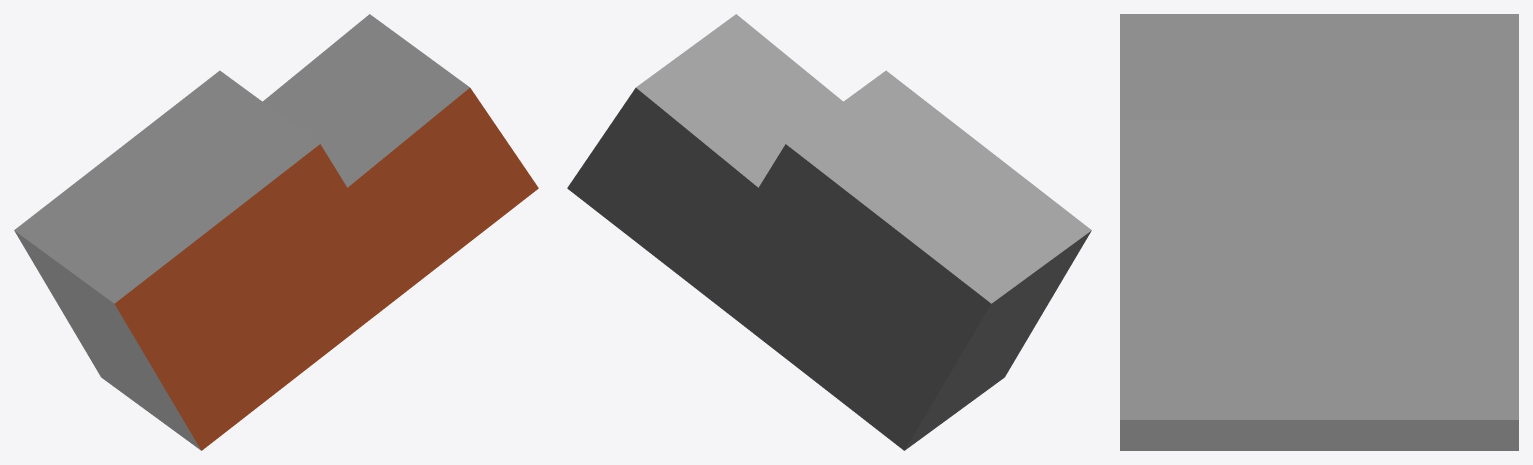
The model's file is construction_1324_assumed_A_Casa_h6m.obj.
3 views of the same model, side by side, from view 1: azimuth 30°, elevation 25°; view 2: azimuth 150°, elevation 25°; view 3: azimuth 270°, elevation 25° (orthographic). The views are drawn at different scales.
Visible parts, largest first — view 1: construction_1324_assumed_A_Casa; view 2: construction_1324_assumed_A_Casa; view 3: construction_1324_assumed_A_Casa.
Boxes of the visible parts, x1,y1,x2,y2 form: construction_1324_assumed_A_Casa: (14, 14, 538, 450); construction_1324_assumed_A_Casa: (567, 14, 1091, 450); construction_1324_assumed_A_Casa: (1120, 14, 1518, 450).
Bounding box in the file's own units: 14.64 × 9.82 × 6.
